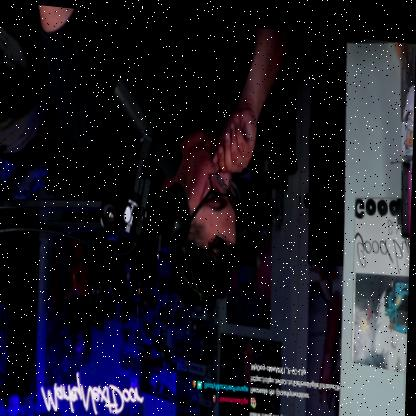streamer: (27, 3, 288, 316)
